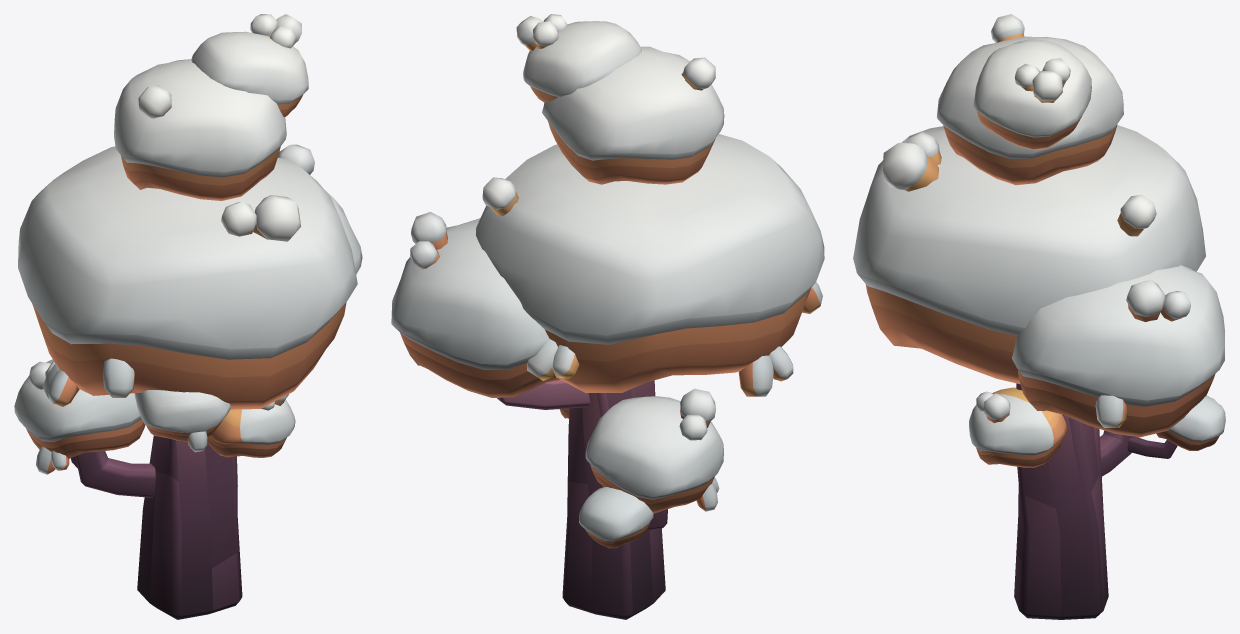
The model's file is grassland_tree_col2_8_snow.fbx.
3 renders of one model, left to right at view 1: azimuth 30°, elevation 25°; view 2: azimuth 150°, elevation 25°; view 3: azimuth 270°, elevation 25°, orthographic. The views are drawn at different scales.
Visible parts, largest first — view 1: grassland_tree_col2_8_snow; view 2: grassland_tree_col2_8_snow; view 3: grassland_tree_col2_8_snow.
Part boxes in pixels (left/top/right/bottom): grassland_tree_col2_8_snow: left=14, top=14, right=362, bottom=619; grassland_tree_col2_8_snow: left=391, top=14, right=824, bottom=619; grassland_tree_col2_8_snow: left=853, top=14, right=1225, bottom=619.
Size of the model in its own units: 961 by 1490 by 868.
